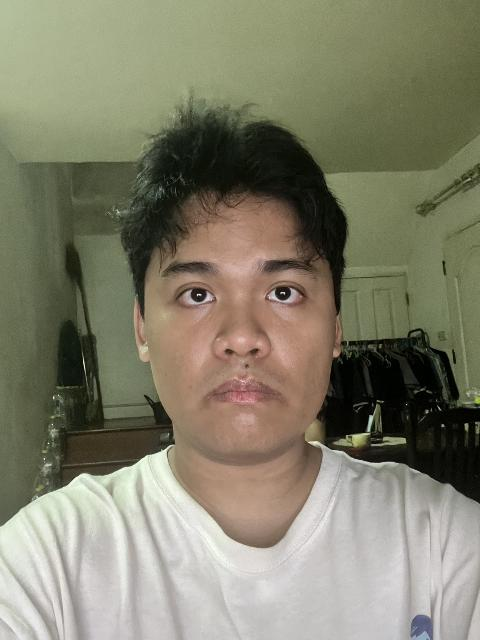fokus: (136, 156, 342, 465)
